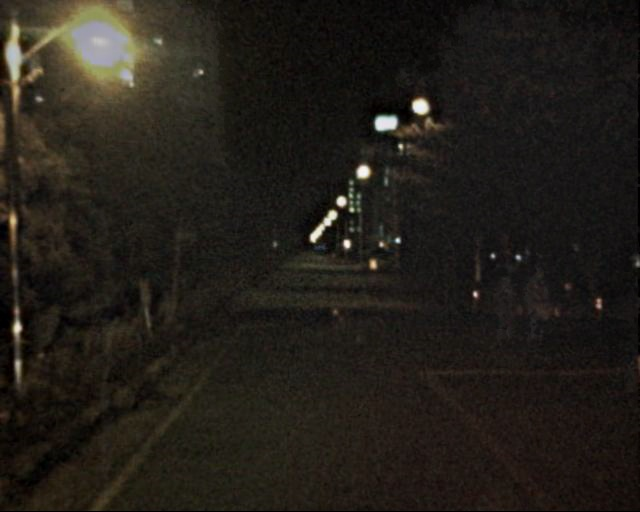person: (516, 257, 554, 350), (488, 264, 523, 350)
